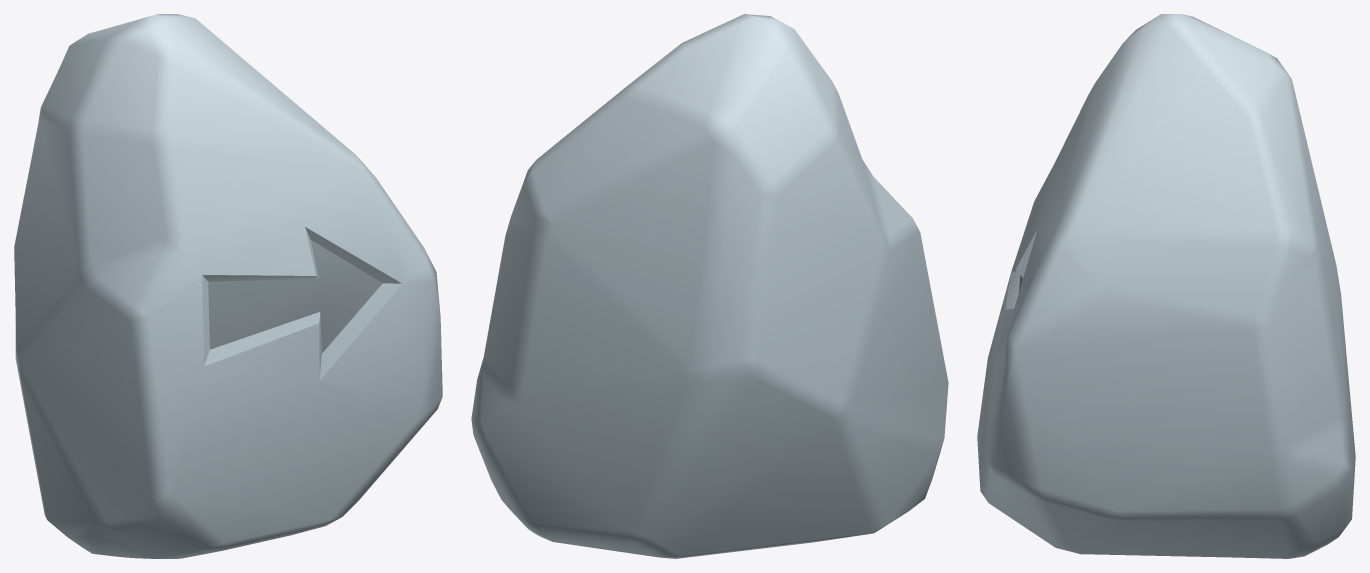
The model's file is stone_005_001.glb.
3 views of the same model, side by side, from view 1: azimuth 30°, elevation 25°; view 2: azimuth 150°, elevation 25°; view 3: azimuth 270°, elevation 25° (orthographic). The views are drawn at different scales.
Parts seen in each view (by area): view 1: stone_005.001; view 2: stone_005.001; view 3: stone_005.001.
Part boxes in pixels (x1,y1,x2,y2): stone_005.001: (14, 14, 442, 558); stone_005.001: (471, 14, 948, 558); stone_005.001: (977, 14, 1355, 558).
Size of the model in its own units: 3.29 by 4.51 by 3.27.
1 material, 1 textured.
